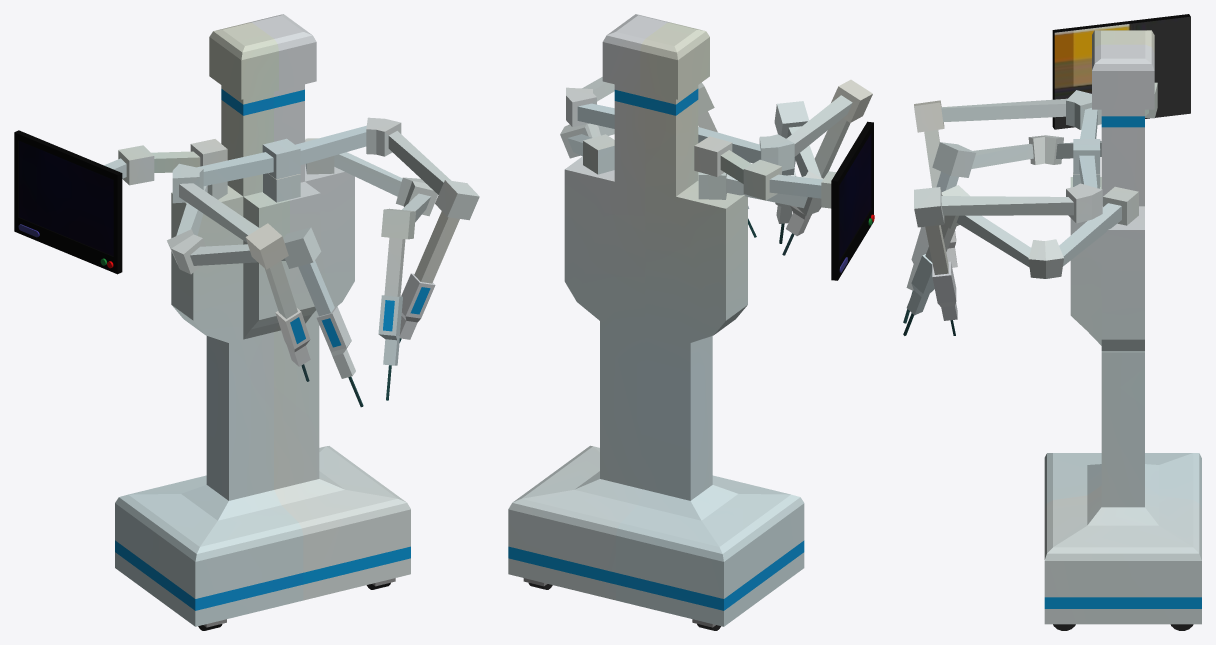
Rendered from MEDMachine.fbx.
The picture shows the model from 3 angles, left to right: view 1: azimuth 30°, elevation 25°; view 2: azimuth 150°, elevation 25°; view 3: azimuth 270°, elevation 25°; orthographic projection. The views are drawn at different scales.
Visible parts, largest first — view 1: MEDMachine; view 2: MEDMachine; view 3: MEDMachine.
Boxes of the visible parts, x1,y1,x2,y2 form: MEDMachine: [14, 14, 479, 630]; MEDMachine: [508, 14, 874, 630]; MEDMachine: [903, 14, 1201, 630].
Size of the model in its own units: 266 by 407 by 203.
1 material, 1 textured.
